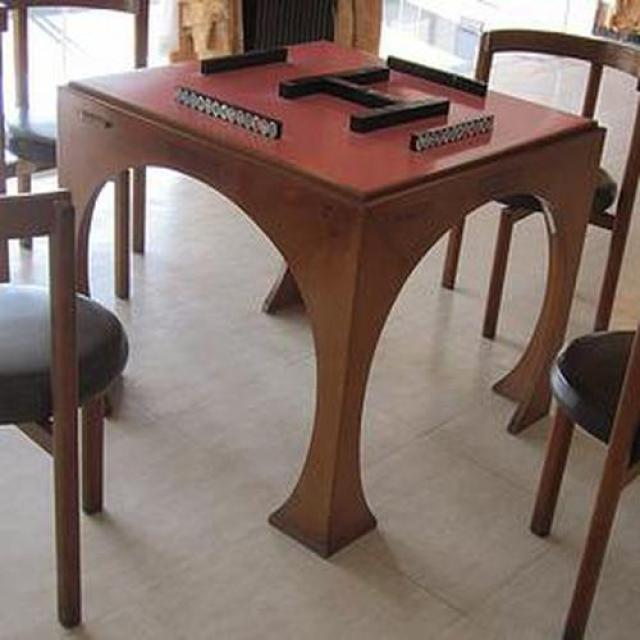table: (56, 42, 608, 562)
